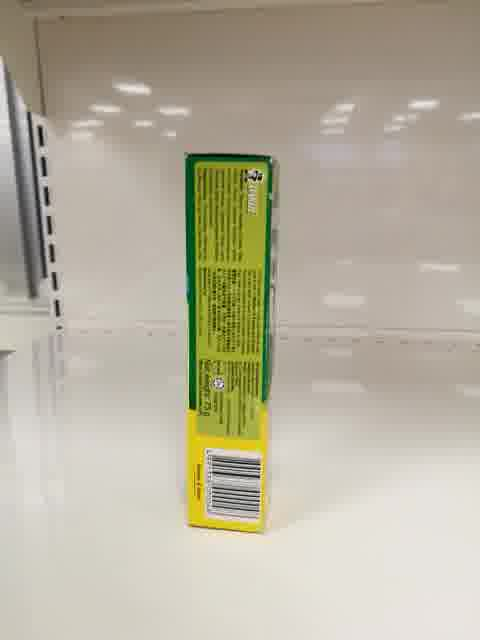toothpaste: (184, 152, 280, 535)
